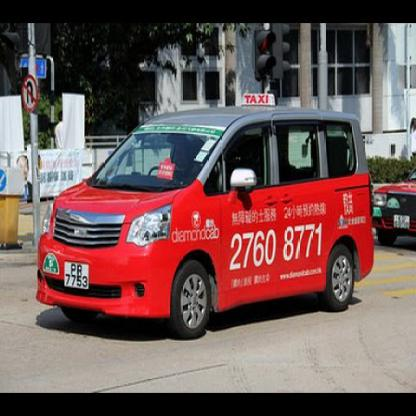taxi: (35, 93, 374, 332)
